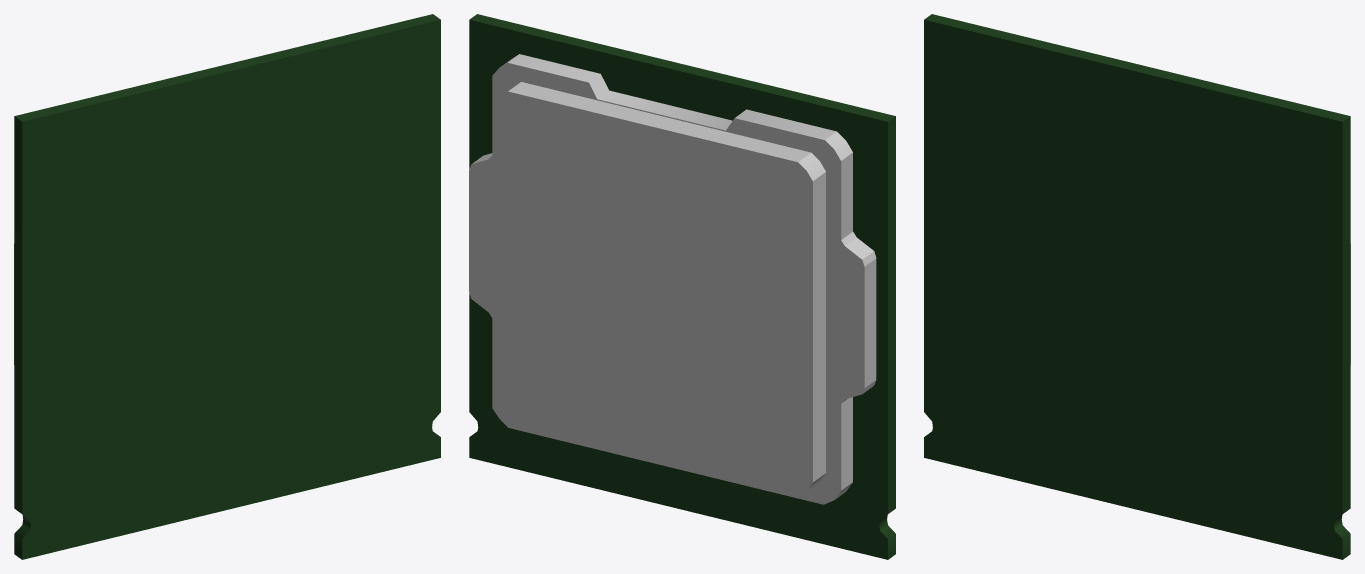
The model's file is CPU.glb.
3 views of the same model, side by side, from view 1: azimuth 30°, elevation 25°; view 2: azimuth 150°, elevation 25°; view 3: azimuth 330°, elevation 25° (orthographic).
Parts seen in each view (by area): view 1: pCube840; view 2: pCube841, pCube840; view 3: pCube840.
Part boxes in pixels (left/top/right/bottom): pCube840: left=14, top=14, right=440, bottom=559; pCube841: left=469, top=54, right=876, bottom=504; pCube840: left=469, top=14, right=895, bottom=559; pCube840: left=924, top=14, right=1350, bottom=559.
Bounding box in the file's own units: 1 × 1 × 0.1363.
